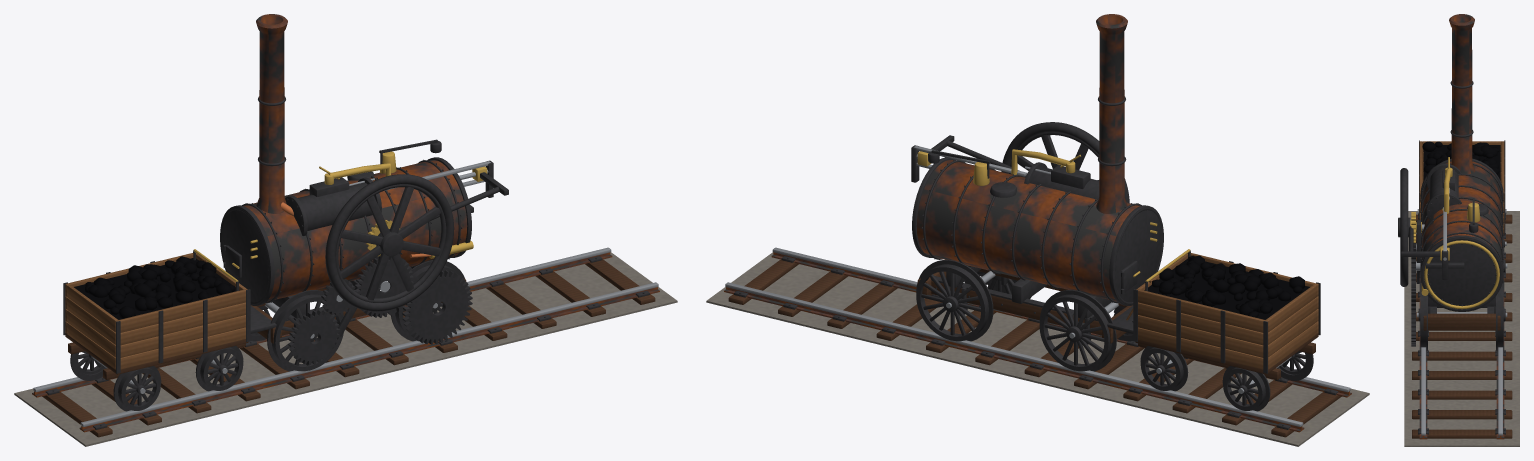
Rendered from trevithick.glb.
The picture shows the model from 3 angles, left to right: view 1: azimuth 30°, elevation 25°; view 2: azimuth 150°, elevation 25°; view 3: azimuth 270°, elevation 25°; orthographic projection. The views are drawn at different scales.
Parts seen in each view (by area): view 1: railBed, mrg_loco_rustyIron, mrg_loco_iron, mrg_wagonGrp_wood, mrg_fly_iron, mrg_trevithick_woodDark, mrg_wagonGrp_coal, mrg_trevithick_steel, mrg_driveWheel_iron, mrg_driveWheel2_iron, mrg_trevithick_rustyIron, mrg_ww1_iron (+7 smaller); view 2: mrg_loco_rustyIron, railBed, mrg_loco_iron, mrg_wagonGrp_wood, mrg_trevithick_woodDark, mrg_wagonGrp_coal, mrg_trevithick_steel, mrg_trevithick_rustyIron, mrg_driveWheel3_iron, mrg_driveWheel1_iron, mrg_fly_iron, mrg_loco_woodDark (+8 smaller); view 3: railBed, mrg_loco_iron, mrg_loco_rustyIron, mrg_trevithick_woodDark, mrg_loco_brass, mrg_wagonGrp_coal, mrg_loco_woodDark, mrg_fly_iron, mrg_trevithick_rustyIron, mrg_trevithick_steel, mrg_driveWheel_iron, mrg_wagonGrp_wood (+4 smaller).
Part boxes in pixels (x1=…): railBed: x1=14, y1=252, x2=677, y2=446; mrg_loco_rustyIron: x1=243, y1=14, x2=467, y2=301; mrg_loco_iron: x1=193, y1=96, x2=508, y2=336; mrg_wagonGrp_wood: x1=65, y1=253, x2=247, y2=369; mrg_fly_iron: x1=325, y1=174, x2=454, y2=311; mrg_trevithick_woodDark: x1=42, y1=259, x2=655, y2=437; mrg_wagonGrp_coal: x1=74, y1=256, x2=239, y2=319; mrg_trevithick_steel: x1=33, y1=247, x2=658, y2=426; mrg_driveWheel_iron: x1=391, y1=260, x2=472, y2=344; mrg_driveWheel2_iron: x1=267, y1=290, x2=343, y2=371; mrg_trevithick_rustyIron: x1=32, y1=252, x2=659, y2=432; mrg_ww1_iron: x1=113, y1=366, x2=161, y2=411; mrg_loco_rustyIron: x1=916, y1=14, x2=1140, y2=301; railBed: x1=706, y1=252, x2=1369, y2=446; mrg_loco_iron: x1=911, y1=96, x2=1190, y2=344; mrg_wagonGrp_wood: x1=1136, y1=253, x2=1318, y2=369; mrg_trevithick_woodDark: x1=728, y1=259, x2=1341, y2=437; mrg_wagonGrp_coal: x1=1144, y1=255, x2=1309, y2=319; mrg_trevithick_steel: x1=725, y1=247, x2=1350, y2=426; mrg_trevithick_rustyIron: x1=724, y1=252, x2=1351, y2=432; mrg_driveWheel3_iron: x1=916, y1=260, x2=993, y2=341; mrg_driveWheel1_iron: x1=1039, y1=290, x2=1116, y2=371; mrg_fly_iron: x1=1001, y1=122, x2=1129, y2=202; mrg_loco_woodDark: x1=917, y1=269, x2=1132, y2=343; railBed: x1=1404, y1=211, x2=1519, y2=446; mrg_loco_iron: x1=1401, y1=81, x2=1503, y2=313; mrg_loco_rustyIron: x1=1422, y1=14, x2=1501, y2=259; mrg_trevithick_woodDark: x1=1412, y1=214, x2=1512, y2=438; mrg_loco_brass: x1=1410, y1=157, x2=1499, y2=309; mrg_wagonGrp_coal: x1=1422, y1=141, x2=1500, y2=180; mrg_loco_woodDark: x1=1423, y1=313, x2=1500, y2=330; mrg_fly_iron: x1=1398, y1=168, x2=1410, y2=286; mrg_trevithick_rustyIron: x1=1419, y1=238, x2=1504, y2=439; mrg_trevithick_steel: x1=1421, y1=347, x2=1502, y2=435; mrg_driveWheel_iron: x1=1411, y1=282, x2=1427, y2=350; mrg_wagonGrp_wood: x1=1419, y1=141, x2=1504, y2=232.
Bounding box in the file's own units: 7.2 × 4.03 × 1.58.
Materials: 9 (7 with a texture image).
